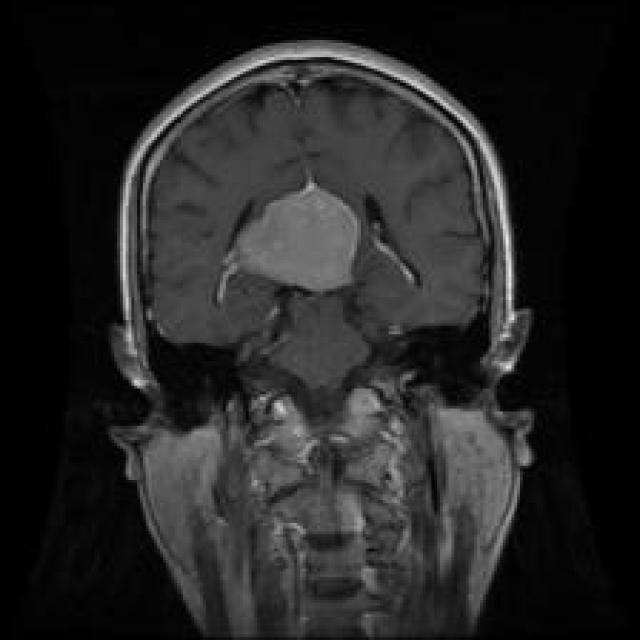meningioma_tumor: (216, 171, 373, 304)
